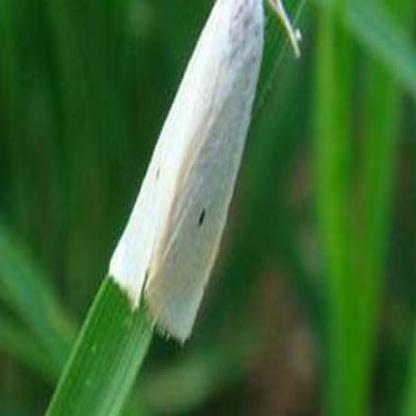stem-borer: (106, 0, 302, 350)
